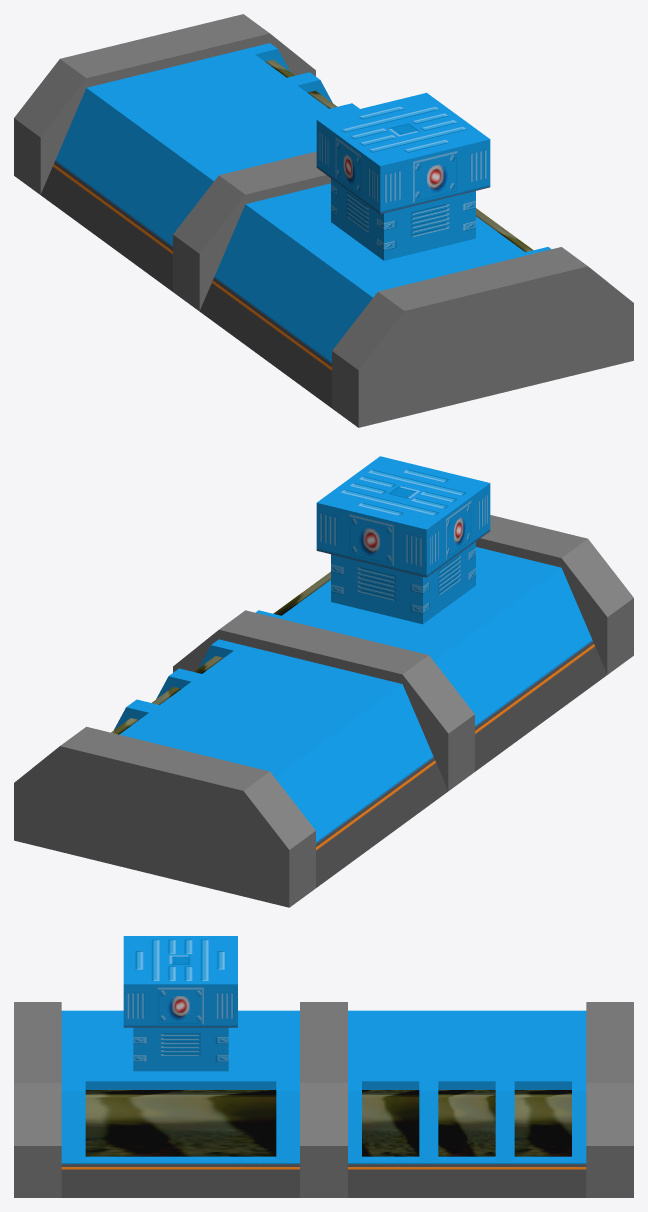
Rendered from houston1.obj.
3 renders of one model, top to bottom at view 1: azimuth 30°, elevation 25°; view 2: azimuth 150°, elevation 25°; view 3: azimuth 270°, elevation 25°, orthographic. The views are drawn at different scales.
Visible parts, largest first — view 1: ColobotMesh_1.001_ColobotMesh_.005, Szyby2_ColobotMesh_.004; view 2: ColobotMesh_1.001_ColobotMesh_.005, Szyby2_ColobotMesh_.004; view 3: ColobotMesh_1.001_ColobotMesh_.005, Szyby2_ColobotMesh_.004.
Boxes of the visible parts, x1=… form: ColobotMesh_1.001_ColobotMesh_.005: x1=14, y1=14, x2=633, y2=427; Szyby2_ColobotMesh_.004: x1=265, y1=59, x2=533, y2=252; ColobotMesh_1.001_ColobotMesh_.005: x1=14, y1=456, x2=633, y2=907; Szyby2_ColobotMesh_.004: x1=111, y1=571, x2=330, y2=734; ColobotMesh_1.001_ColobotMesh_.005: x1=14, y1=936, x2=633, y2=1197; Szyby2_ColobotMesh_.004: x1=85, y1=1090, x2=571, y2=1156.
Size of the model in its own units: 60 by 41 by 130.
